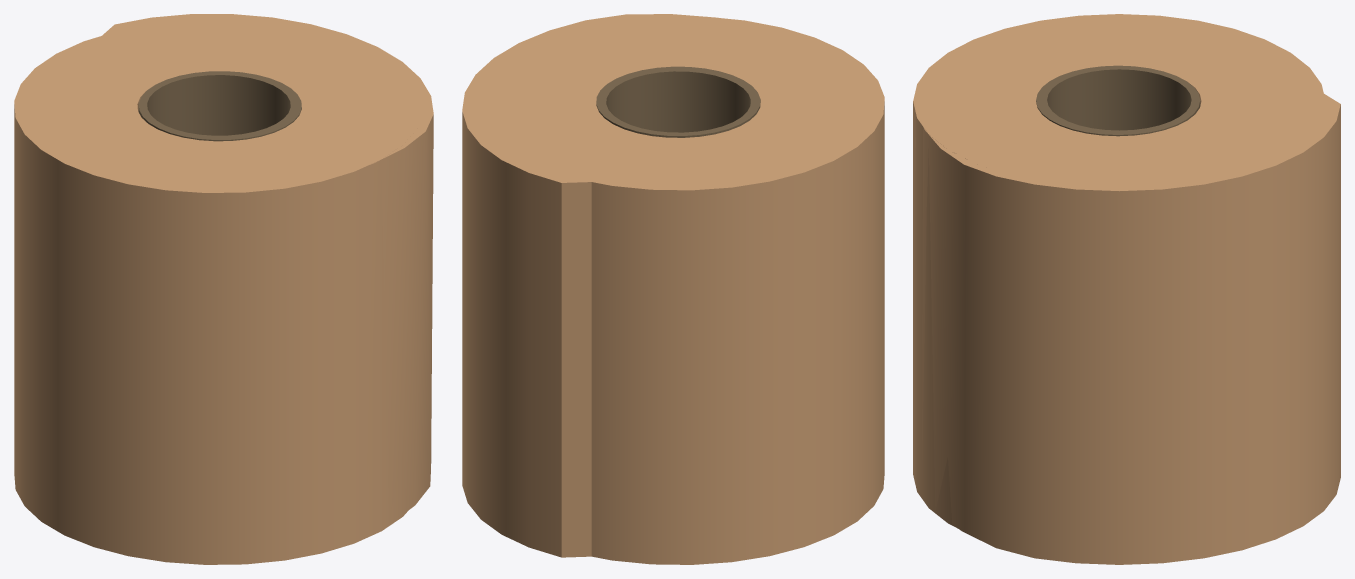
File: bandage.glb
3 views of the same model, side by side, from view 1: azimuth 30°, elevation 25°; view 2: azimuth 150°, elevation 25°; view 3: azimuth 270°, elevation 25° (orthographic).
Visible parts, largest first — view 1: Bandage, Bandage.001, Cardboard; view 2: Bandage, Bandage.001, Cardboard; view 3: Bandage.001, Bandage, Cardboard.
Part boxes in pixels (box(x1,y1,x2,y2)): Bandage: box(14, 20, 423, 564); Bandage.001: box(102, 14, 433, 533); Cardboard: box(138, 71, 301, 141); Bandage: box(472, 16, 884, 564); Bandage.001: box(462, 14, 718, 557); Cardboard: box(596, 66, 760, 137); Bandage.001: box(915, 94, 1340, 564); Bandage: box(913, 14, 1325, 528); Cardboard: box(1036, 65, 1200, 136).
Bounding box in the file's own units: 0.27 × 0.2685 × 0.2754.
2 materials, 2 textured.
